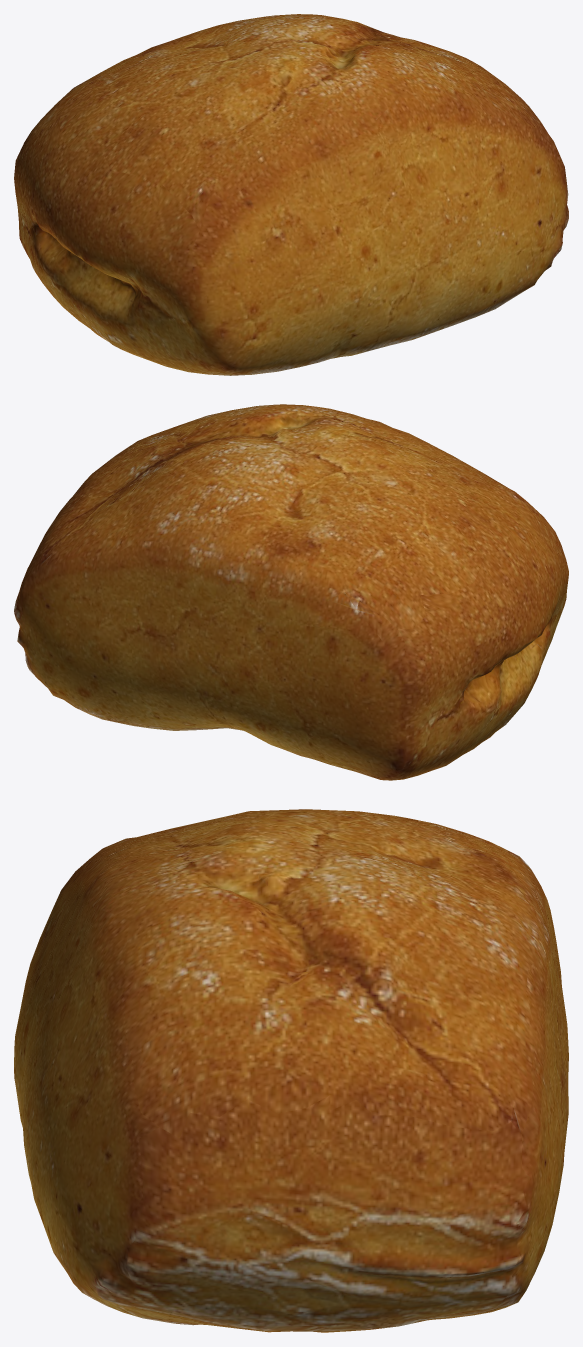
The model's file is food_bread.glb.
The picture shows the model from 3 angles, top to bottom: view 1: azimuth 30°, elevation 25°; view 2: azimuth 150°, elevation 25°; view 3: azimuth 270°, elevation 25°; orthographic projection. The views are drawn at different scales.
Parts seen in each view (by area): view 1: food_bread; view 2: food_bread; view 3: food_bread.
Part boxes in pixels (x1,y1,x2,y2): food_bread: [14, 14, 568, 375]; food_bread: [14, 404, 568, 780]; food_bread: [14, 809, 568, 1332].
Size of the model in its own units: 0.102 by 0.0565 by 0.0761.
Materials: 1 (1 with a texture image).
